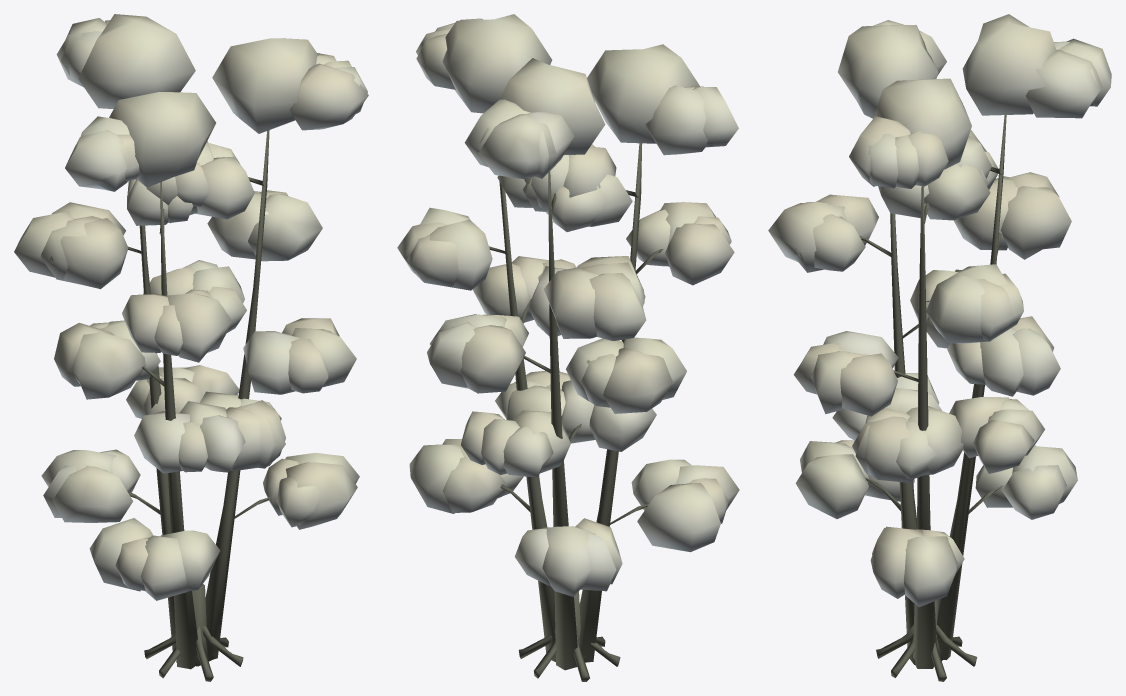
3 renders of one model, left to right at view 1: azimuth 30°, elevation 25°; view 2: azimuth 150°, elevation 25°; view 3: azimuth 270°, elevation 25°, orthographic. The views are drawn at different scales.
Visible parts, largest first — view 1: crown, trunk; view 2: crown, trunk; view 3: crown, trunk.
Boxes of the visible parts, bbox=[...] form: crown: bbox=[14, 14, 368, 600]; trunk: bbox=[127, 130, 270, 681]; crown: bbox=[397, 14, 739, 596]; trunk: bbox=[489, 143, 663, 681]; crown: bbox=[768, 14, 1111, 607]; trunk: bbox=[859, 115, 1006, 681].
Size of the model in its own units: 6.41 by 12.28 by 6.07.
